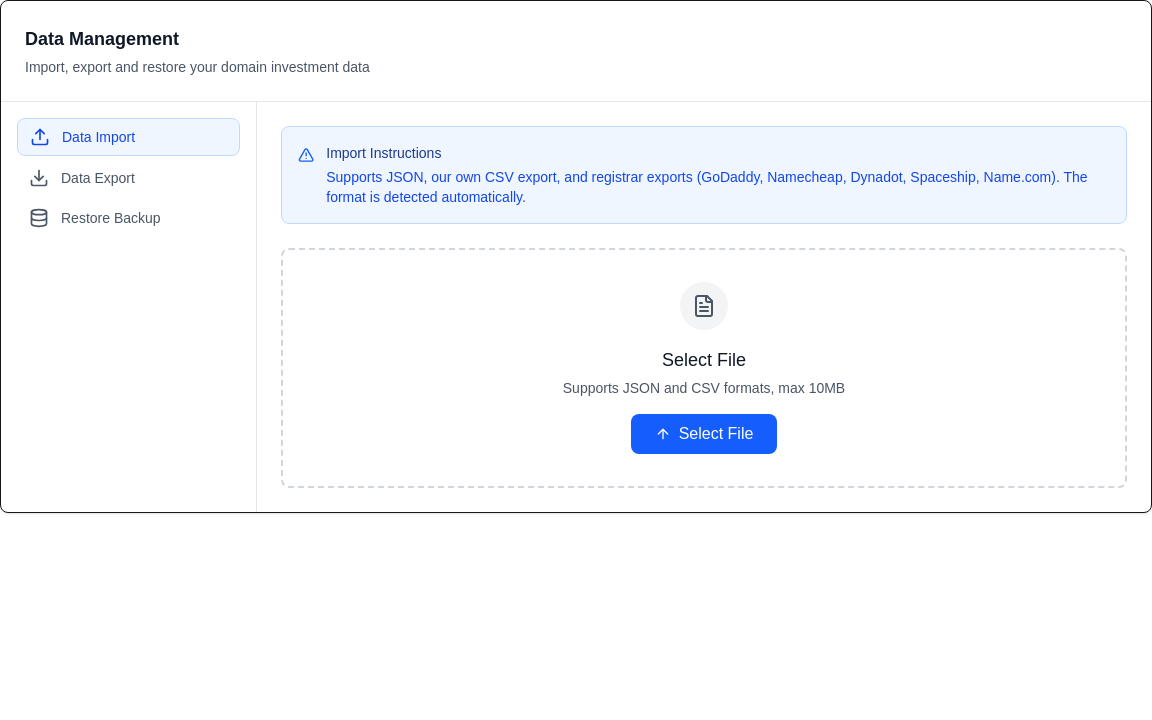
Test case: 恢复备份 › 警告文案说的是合并，不是「完全替换」——saveData 根本没有删除路径
The image size is (1152, 720).
Click the button "Restore Backup": (128, 218) [17,200,240,236]
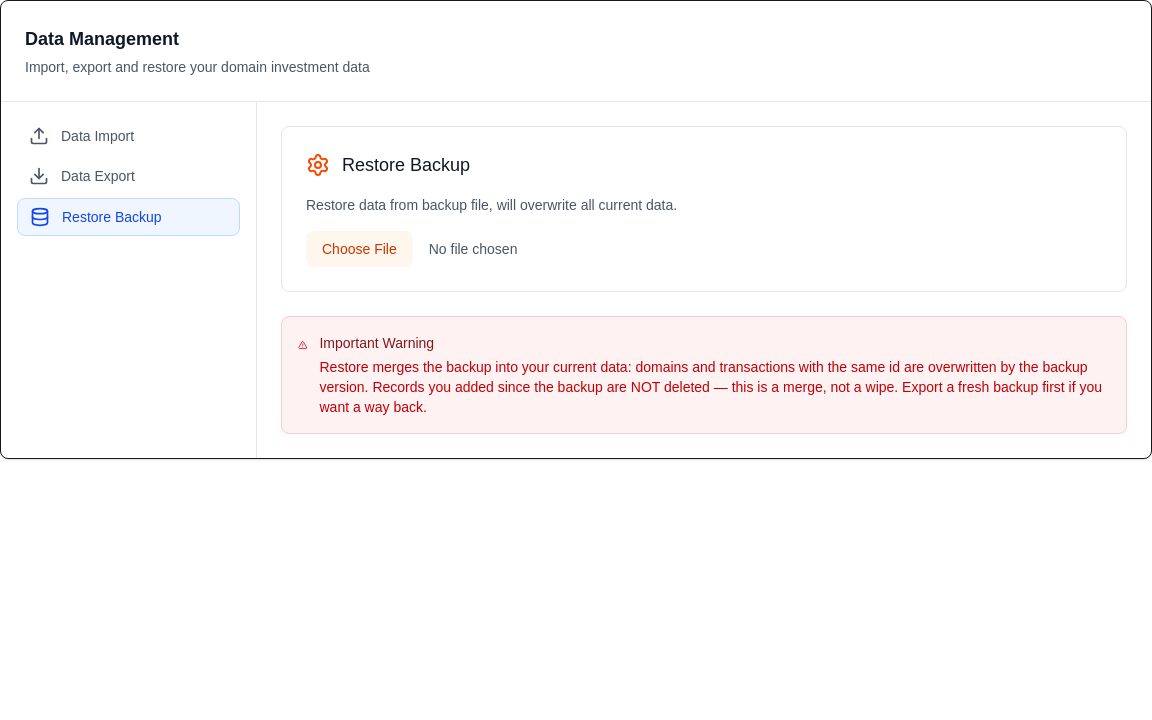
Expected: the text "merges the backup" is shown, [320,359,1102,415]
